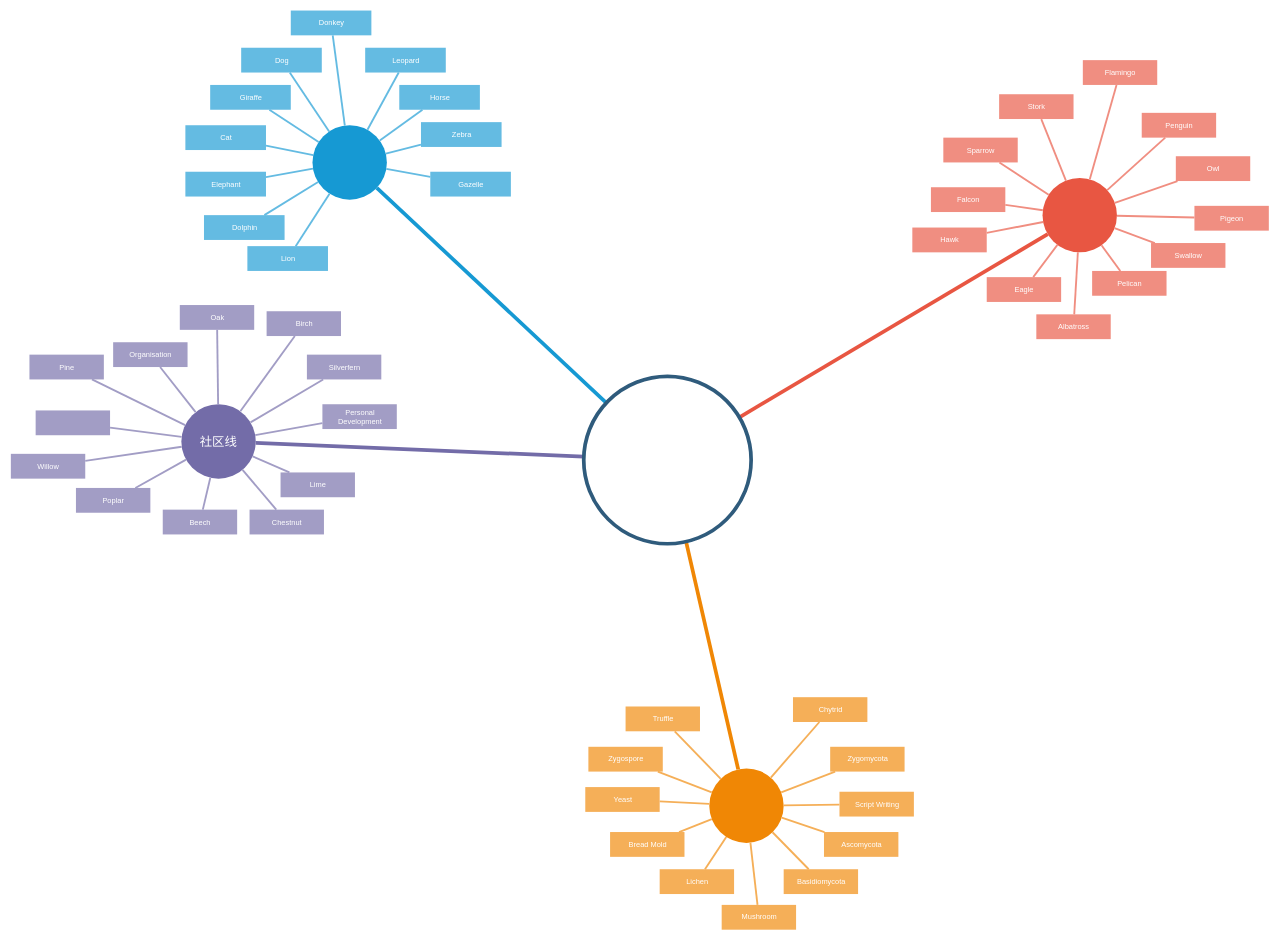
Some shapes in this 1279 by 941 pixel diagram are drawn without their labels. Each missing label, with the centre of its shape:
Acacia: pixel 72 422
Bird: pixel 1079 215
Fungi: pixel 746 805
Mammal: pixel 349 162
PMO: pixel 667 459
